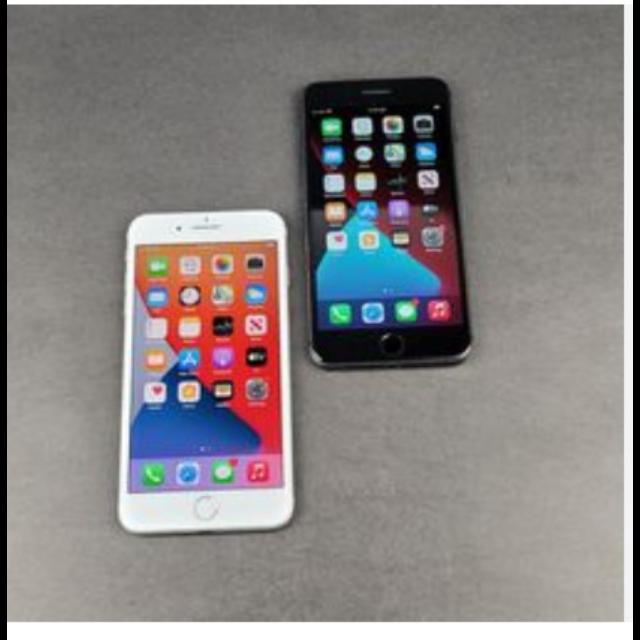Smartphone: (115, 210, 295, 538), (302, 76, 473, 370)
